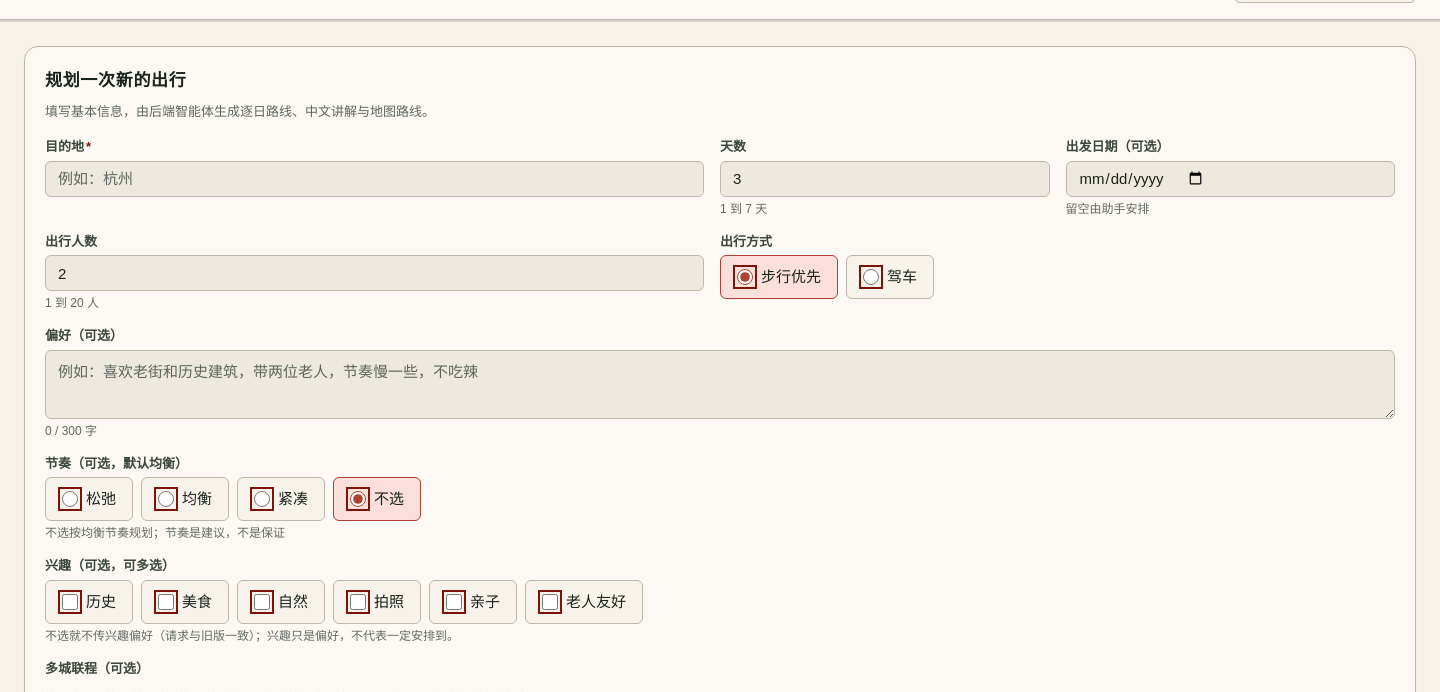
Test: App × 落印（六期 S1） › 规划成功后落印出现，驻留计时后静默卸载；示例加载不触发
Later steps or results of the test are not shown.
//  规划成功：盖章
Type "杭州" into the field labelled "目的地*" at (374, 178), box [45,160,704,196]
(page scrolled)
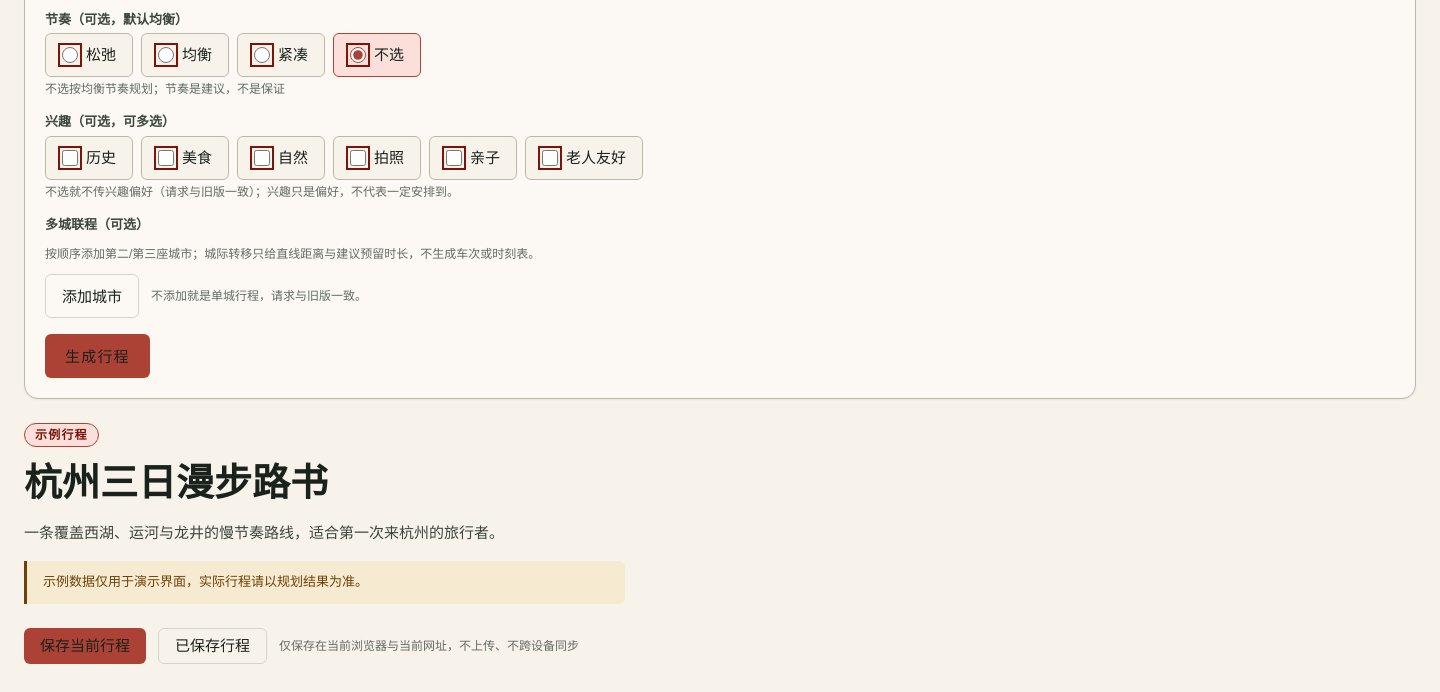
Click the button "生成行程" at (97, 356), box [45,334,150,378]
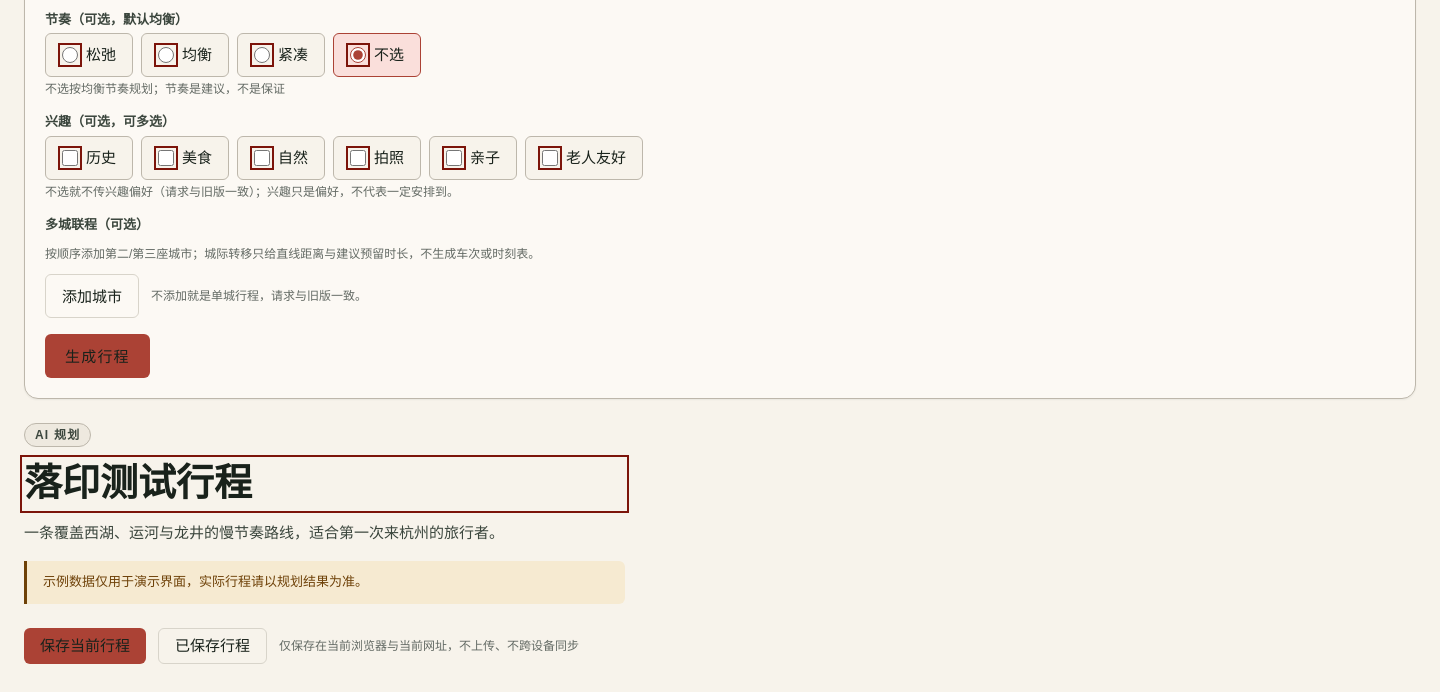
Expected: the heading "落印测试行程" is shown, [24,462,252,504]
